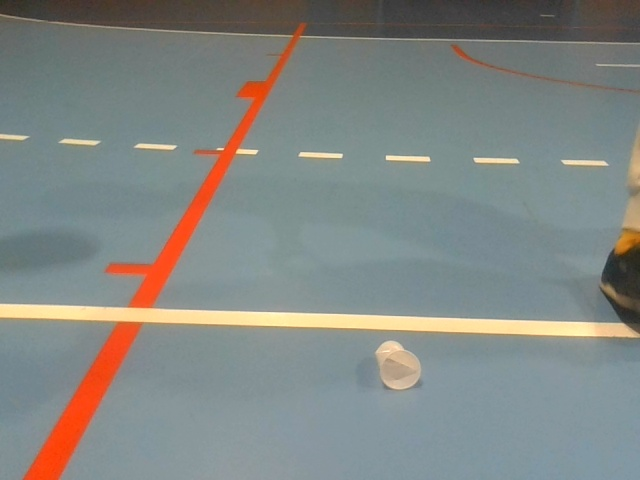plasticcup: (373, 340, 423, 390)
